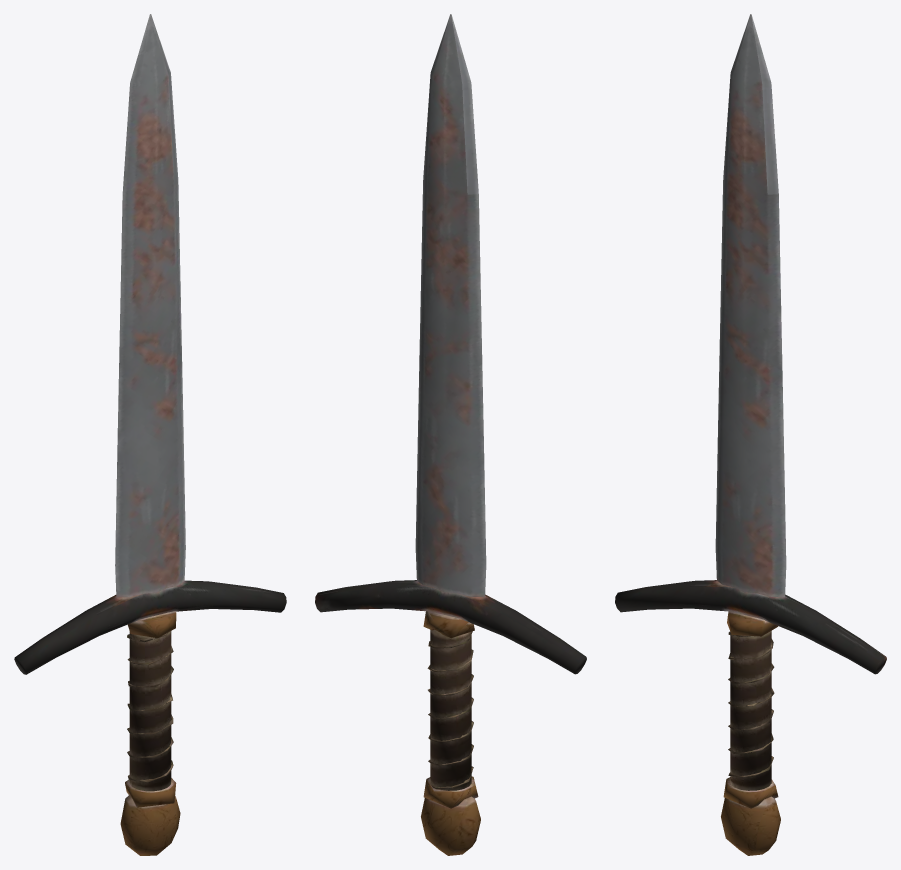
The model's file is eq_sword_1_lod1.glb.
3 renders of one model, left to right at view 1: azimuth 30°, elevation 25°; view 2: azimuth 150°, elevation 25°; view 3: azimuth 330°, elevation 25°, orthographic.
Parts seen in each view (by area): view 1: eq_sword_1_lod1; view 2: eq_sword_1_lod1; view 3: eq_sword_1_lod1.
Part boxes in pixels (x1,y1,x2,y2): eq_sword_1_lod1: [14, 14, 286, 855]; eq_sword_1_lod1: [315, 14, 586, 855]; eq_sword_1_lod1: [615, 14, 886, 855].
Size of the model in its own units: 0.3526 by 1.06 by 0.0617.
Materials: 1 (1 with a texture image).
